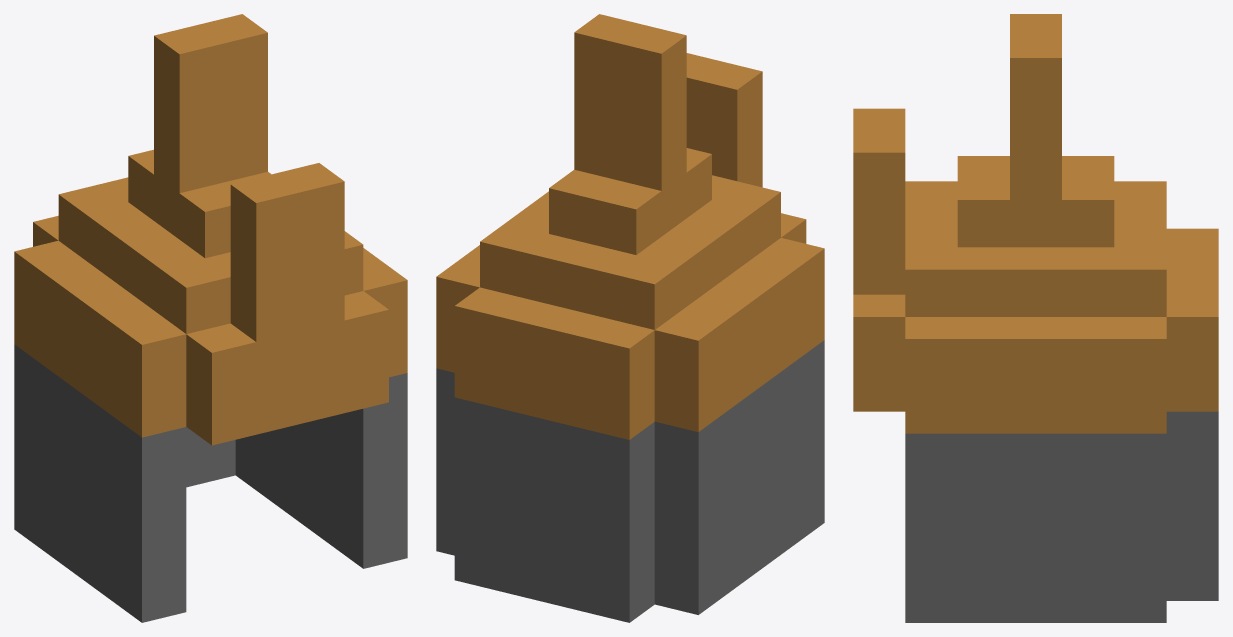
File: character-162-helm_med_2c_sh.obj
3 views of the same model, side by side, from view 1: azimuth 30°, elevation 25°; view 2: azimuth 150°, elevation 25°; view 3: azimuth 270°, elevation 25° (orthographic). The views are drawn at different scales.
Parts seen in each view (by area): view 1: helm_med_2c_sh; view 2: helm_med_2c_sh; view 3: helm_med_2c_sh.
Boxes of the visible parts, left/top/right/bottom form: helm_med_2c_sh: left=14, top=14, right=407, bottom=622; helm_med_2c_sh: left=436, top=14, right=824, bottom=622; helm_med_2c_sh: left=853, top=14, right=1218, bottom=622.
Size of the model in its own units: 0.6 by 1.1 by 0.7.
1 material, 1 textured.
